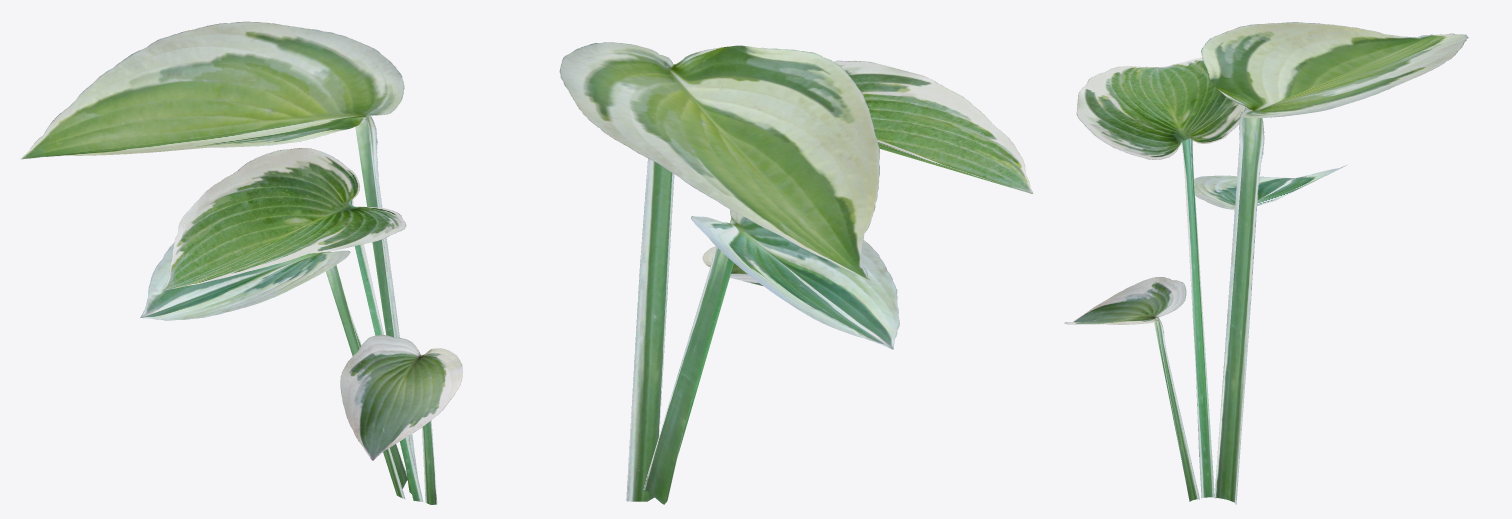
The model's file is plant_small_wg_00_line_filler_06.fbx.
3 renders of one model, left to right at view 1: azimuth 30°, elevation 25°; view 2: azimuth 150°, elevation 25°; view 3: azimuth 270°, elevation 25°, orthographic. The views are drawn at different scales.
Parts seen in each view (by area): view 1: plant_small_wg_00_line_filler_06; view 2: plant_small_wg_00_line_filler_06; view 3: plant_small_wg_00_line_filler_06.
Boxes of the visible parts, box(x1,y1,x2,y2) form: plant_small_wg_00_line_filler_06: box(20, 21, 462, 504); plant_small_wg_00_line_filler_06: box(559, 42, 1033, 504); plant_small_wg_00_line_filler_06: box(1064, 22, 1468, 504).
Bounding box in the file's own units: 32.84 × 37.85 × 36.17.
1 material, 1 textured.
